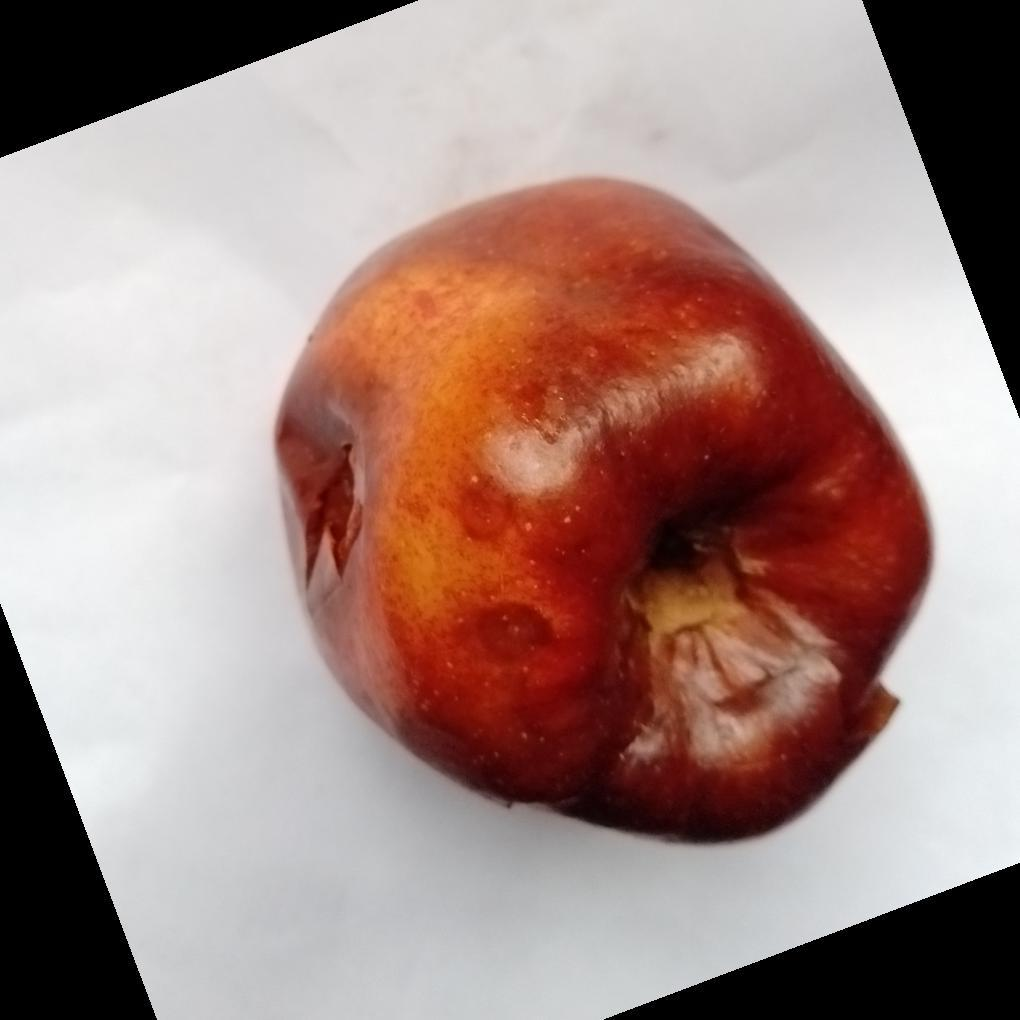FreshOrange: (269, 176, 935, 849)
